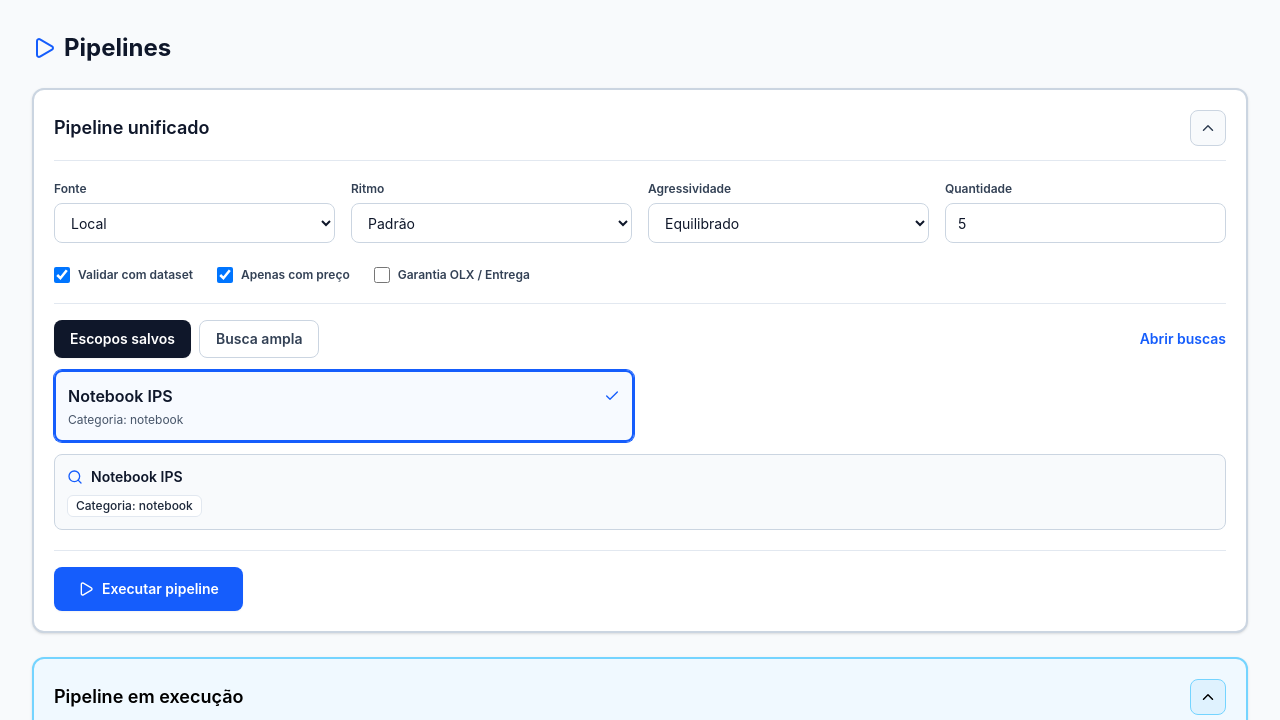
Test: Frontend Pages Suite › blocks an OLX scope before enqueueing when its navigation budget is unavailable
Select "OLX" in the dropdown labelled "Fonte": (194, 223) [54, 203, 335, 243]
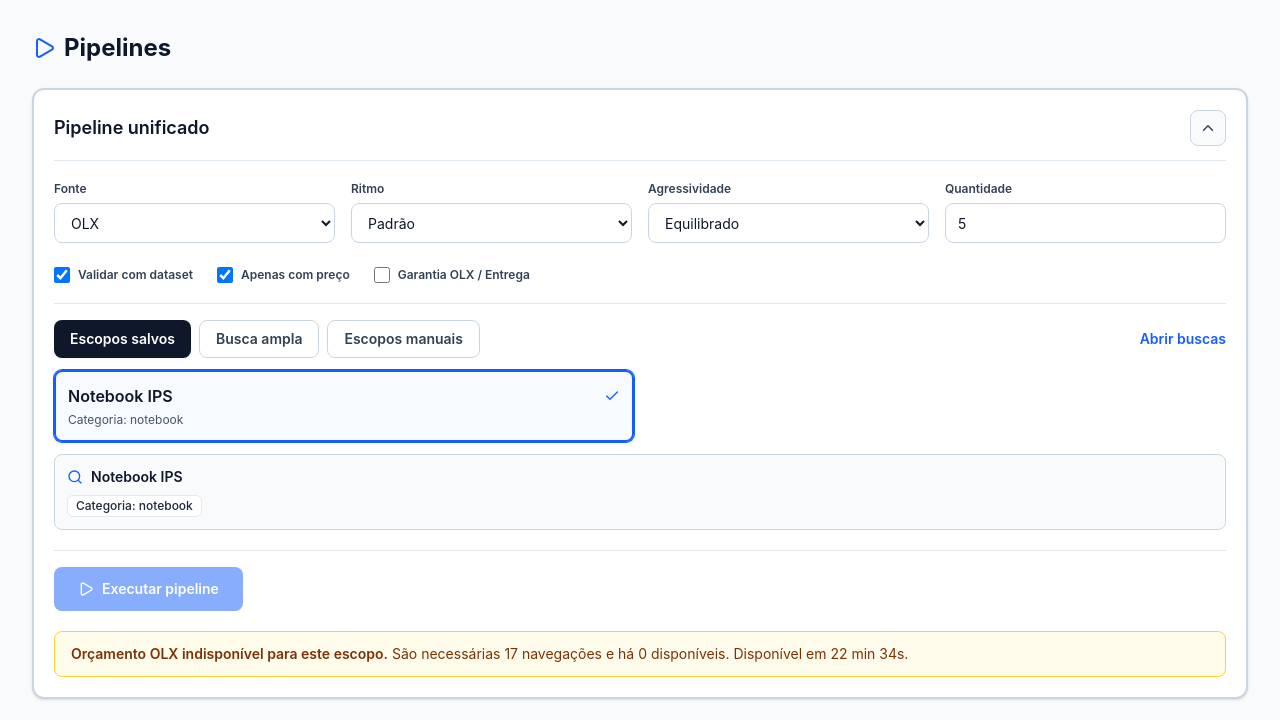
Expected: the message shows "Orçamento OLX indisponível para este escopo.", [71, 645, 388, 662]
Expected: the message shows "São necessárias 17 navegações e há 0 disponíveis.", [54, 631, 1226, 677]
Expected: the button "Executar pipeline" is disabled, [54, 567, 243, 611]
